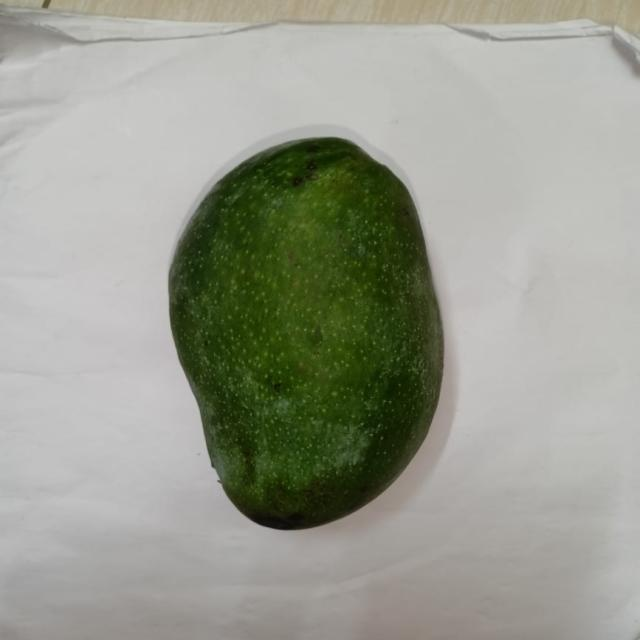rotten_mango: (171, 137, 447, 531)
